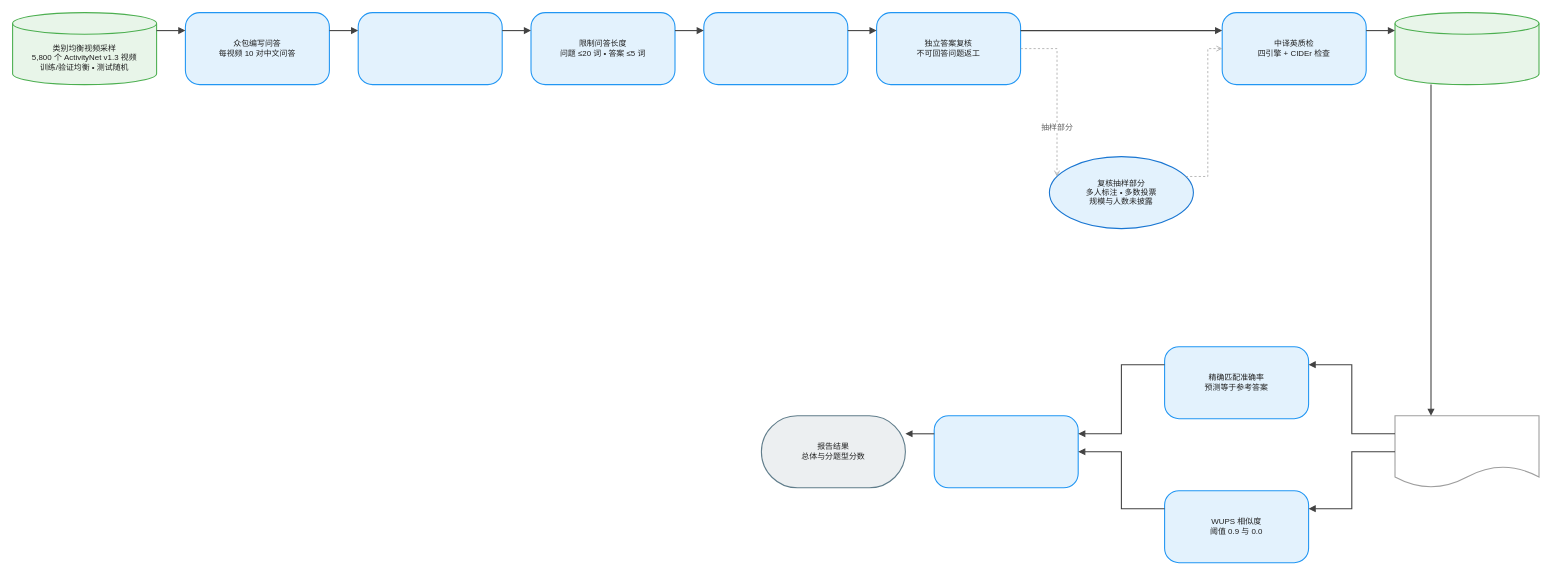
This 1552x576 diagram has some shape labels left out. Here are the shapes that lost their labels. From the top down, the centre of each, then its label:
pixel 429 48: 控制问题覆盖 1 动作 + 1 空间 + 1 时间 + 7 自由
pixel 775 48: 均衡是非答案 比例接近 1:1
pixel 1466 48: ActivityNet-QA 58,000 对双语问答
pixel 1005 451: 按题型汇总 动作 • 空间 • 时间 • 自由
pixel 1466 451: VideoQA 预测 视频 + 问题 → 答案
